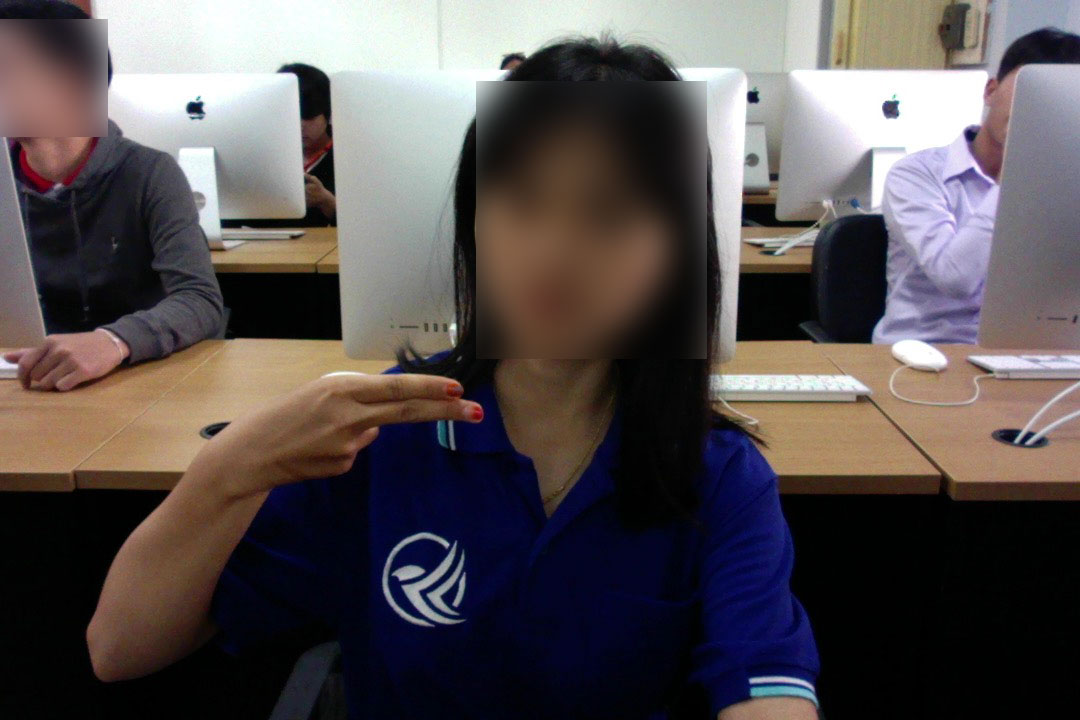hor: (227, 364, 492, 490)
